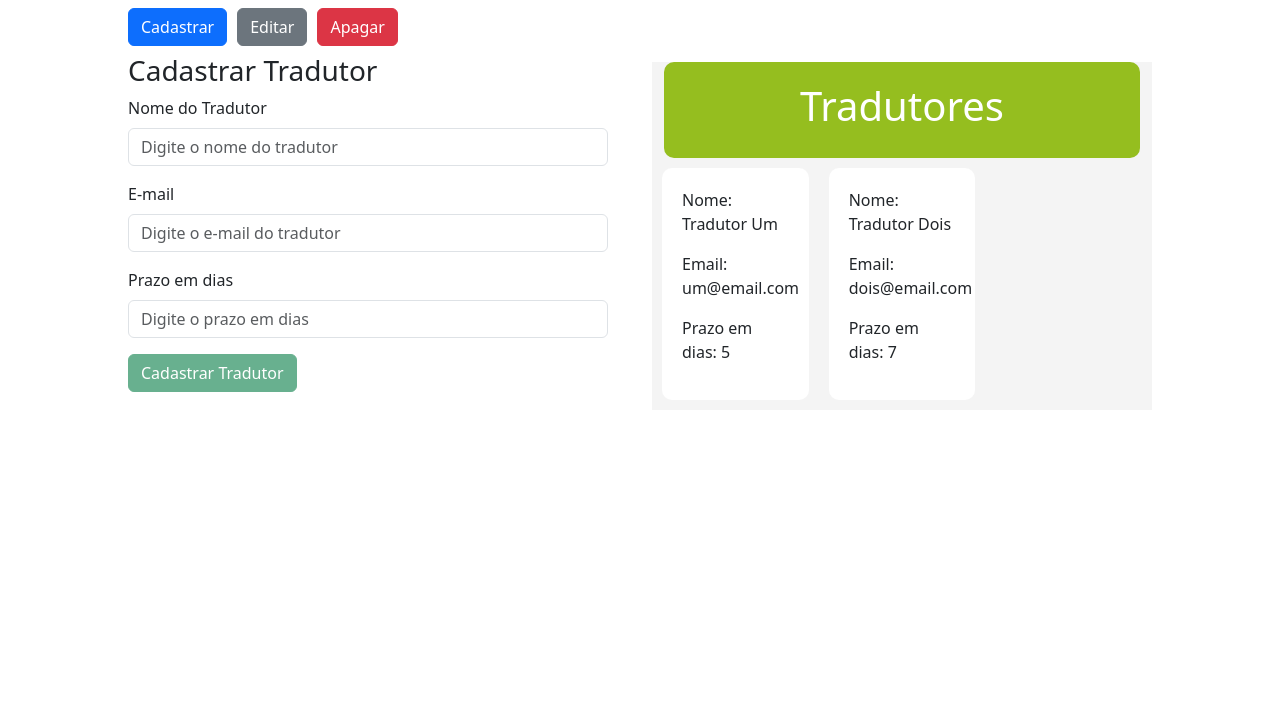
it: Translator Component › mostra alerta de erro no cadastro se API falhar
The width and height of the screenshot is (1280, 720).
Type "Erro" into the field with placeholder "Digite o nome do tradutor" at (368, 147), box [128,128,608,166]
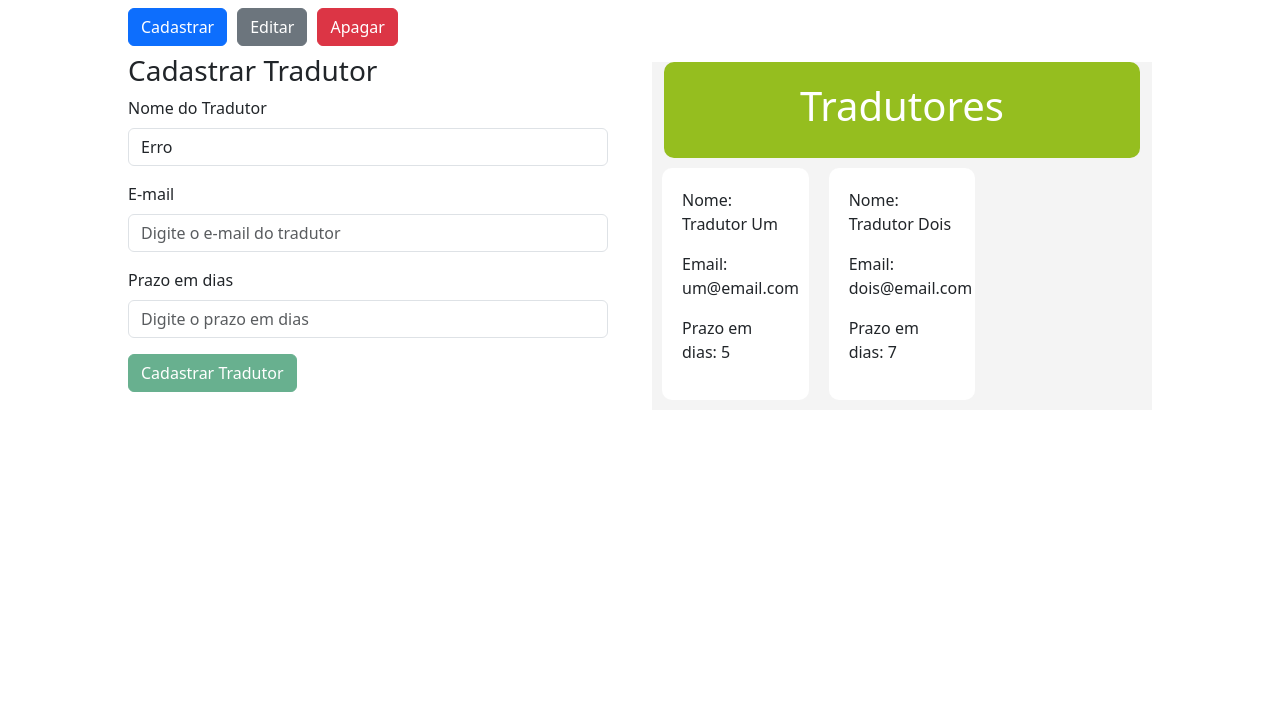
Type "erro@email.com" into the field with placeholder "Digite o e-mail do tradutor" at (368, 233), box [128,214,608,252]
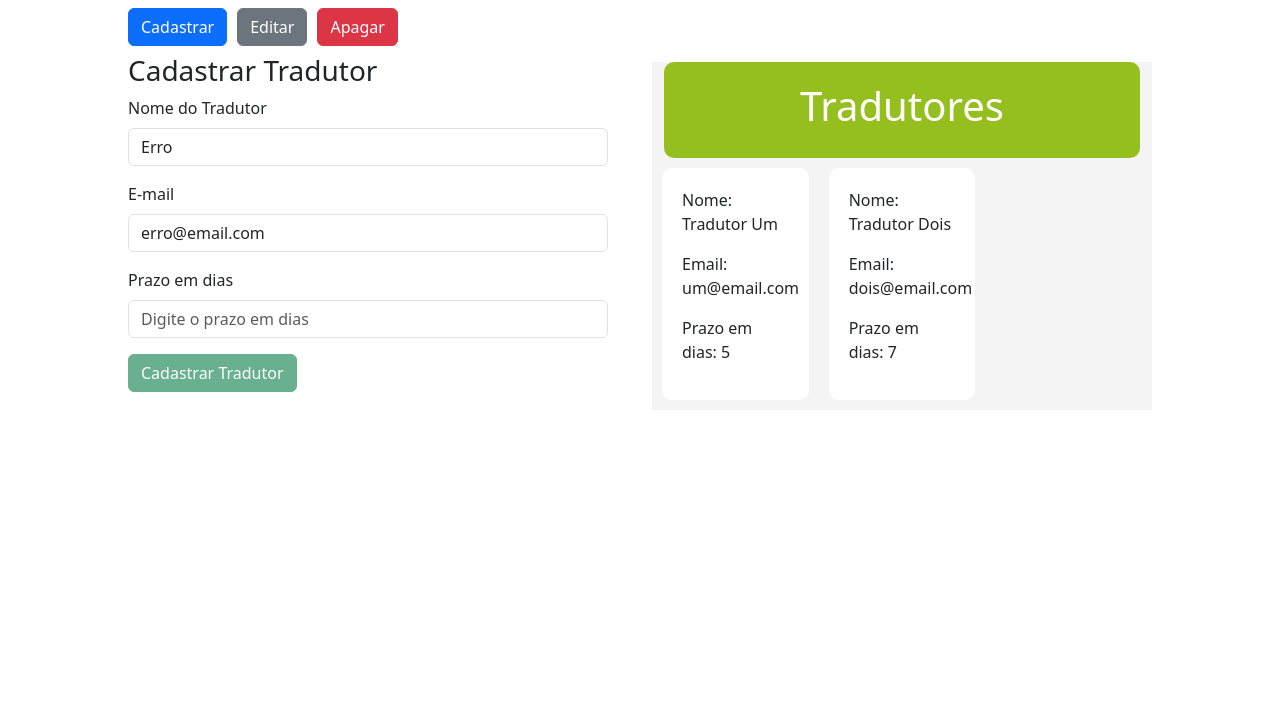
Type "3" into the number field with placeholder "Digite o prazo em dias" at (368, 319), box [128,300,608,338]
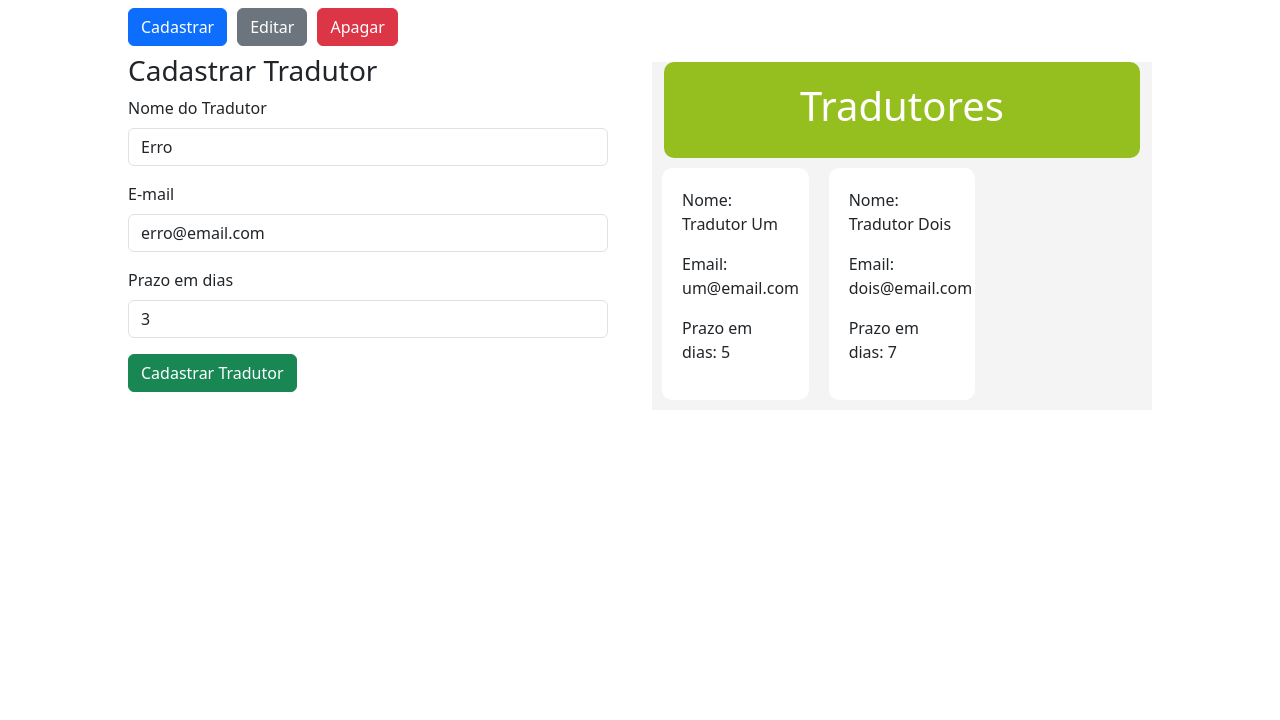
Expected: the button "Cadastrar Tradutor" is enabled
Click the button "Cadastrar Tradutor" at (212, 373), box [128,354,296,392]
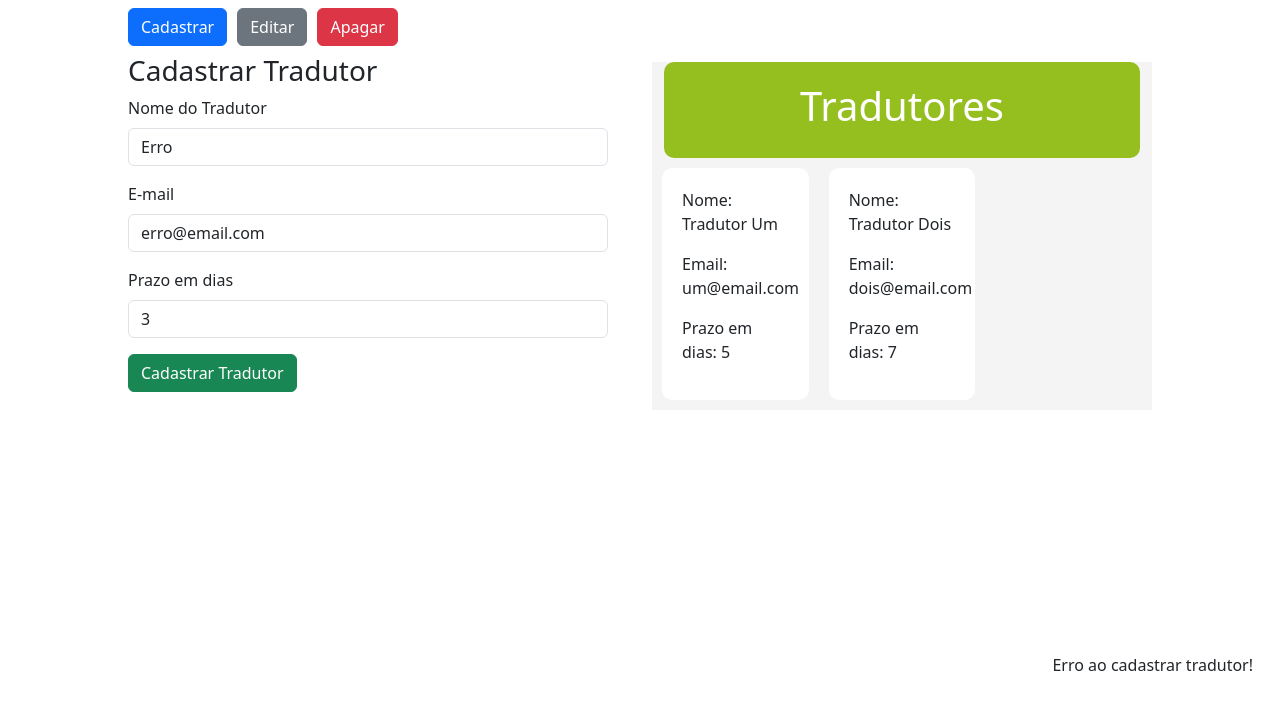
Expected: the text "Erro ao cadastrar tradutor!" is shown, [1052,654,1253,676]
